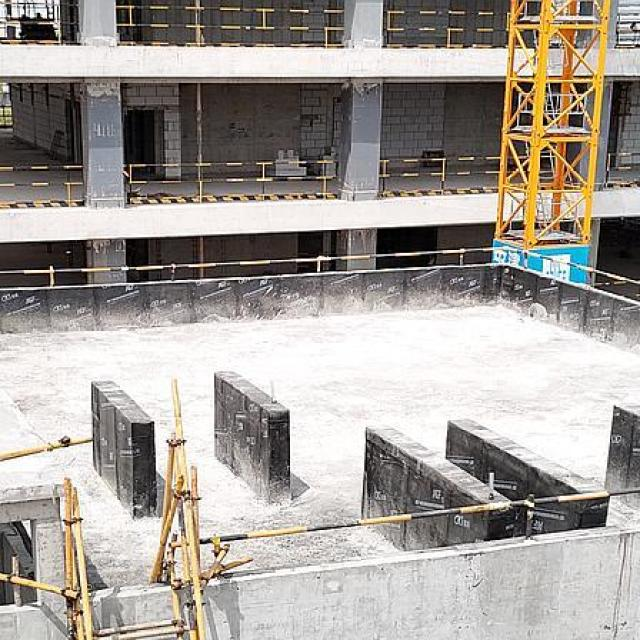edge_guardrail: (170, 484, 640, 569), (0, 243, 640, 288), (114, 1, 346, 48), (126, 159, 340, 204), (378, 155, 528, 198), (382, 10, 512, 49), (0, 165, 84, 208), (0, 20, 79, 44), (605, 152, 640, 185), (614, 20, 640, 49), (0, 105, 13, 125)
